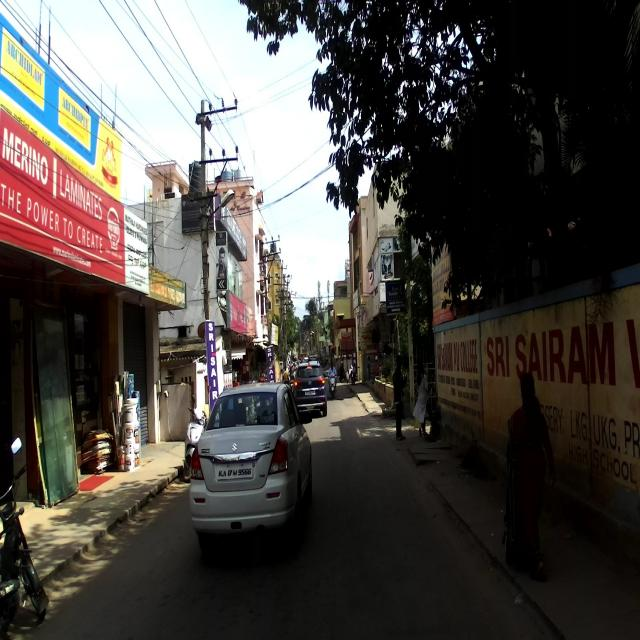Car_Maruti-Suzuki: (189, 380, 313, 563)
motorcycle_TVS: (0, 436, 49, 639)
